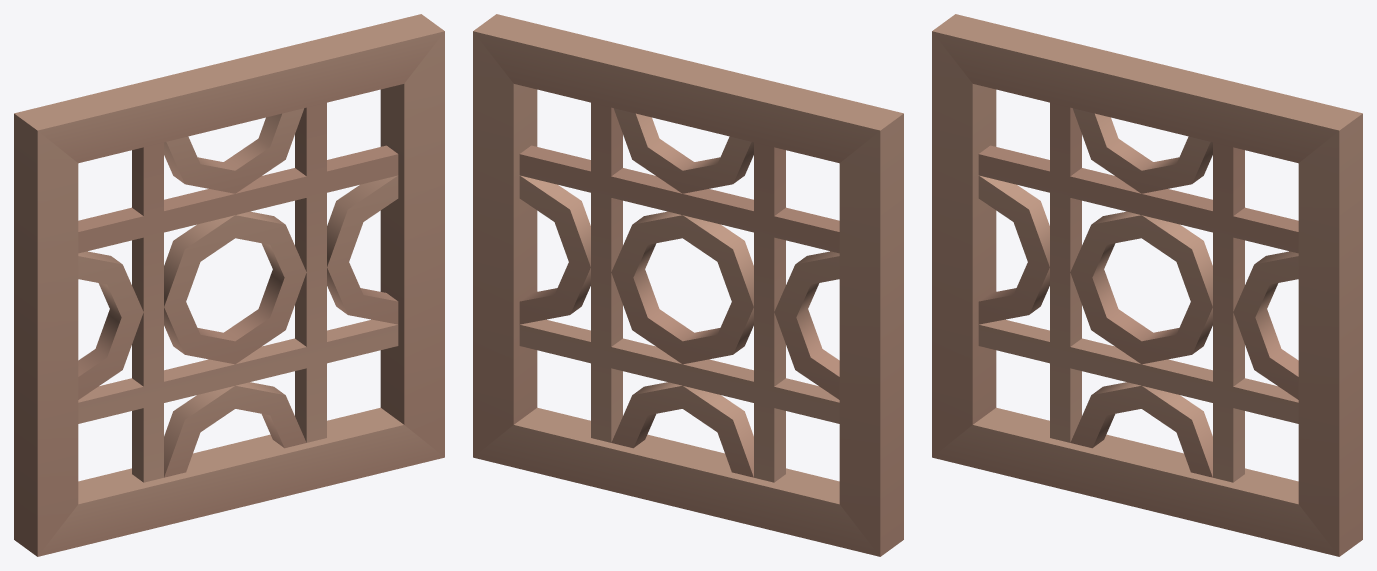
Rendered from frame-e.glb.
3 views of the same model, side by side, from view 1: azimuth 30°, elevation 25°; view 2: azimuth 150°, elevation 25°; view 3: azimuth 330°, elevation 25° (orthographic).
Parts seen in each view (by area): view 1: frame-e; view 2: frame-e; view 3: frame-e.
Part boxes in pixels (x1,y1,x2,y2): frame-e: (14,14,444,556); frame-e: (473,14,903,556); frame-e: (932,14,1362,556).
Size of the model in its own units: 1 by 1 by 0.1.
